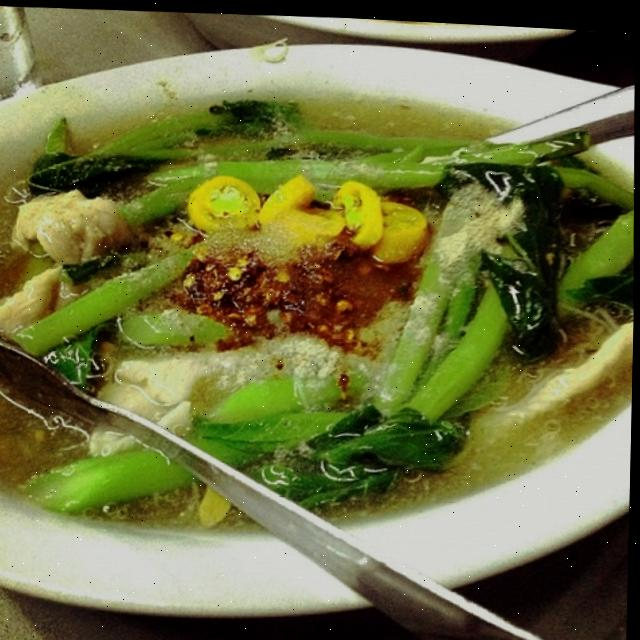面条主食: (0, 21, 625, 640)
